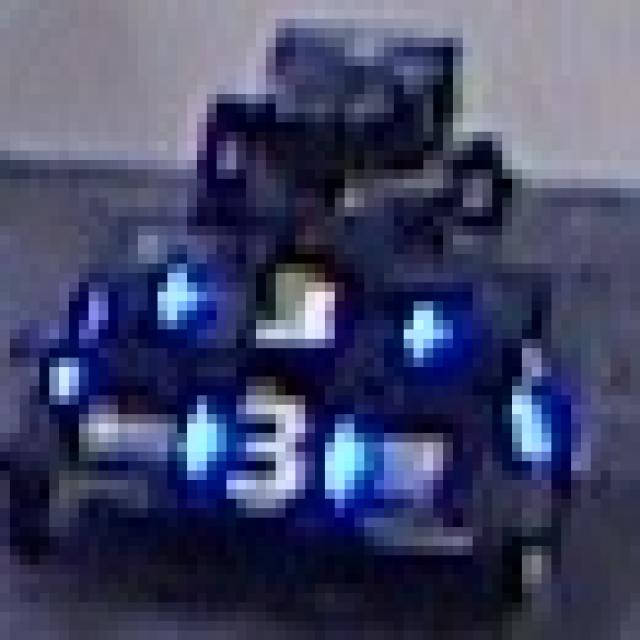B3: (178, 376, 364, 508)
